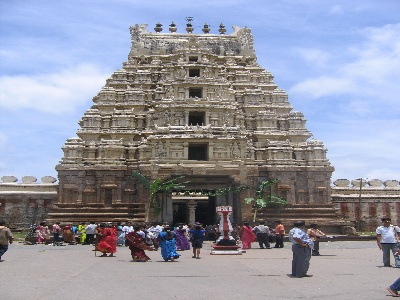gopura: (52, 14, 347, 182)
